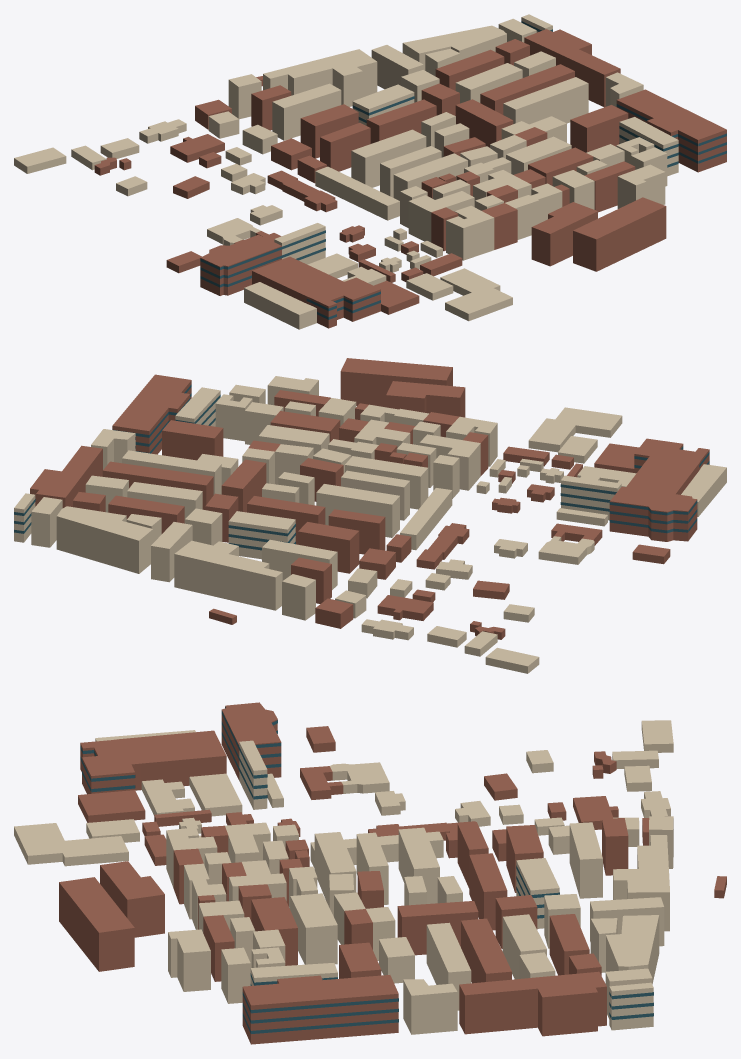
The model's file is city_-1_-5.glb.
3 views of the same model, one above another, from view 1: azimuth 30°, elevation 25°; view 2: azimuth 150°, elevation 25°; view 3: azimuth 270°, elevation 25° (orthographic). The views are drawn at different scales.
Visible parts, largest first — view 1: city_-1_-5; view 2: city_-1_-5; view 3: city_-1_-5.
Boxes of the visible parts, <box> form: city_-1_-5: <box>14,14,726,329</box>; city_-1_-5: <box>14,358,726,673</box>; city_-1_-5: <box>14,702,726,1044</box>.
Bounding box in the file's own units: 260 × 15 × 248.
